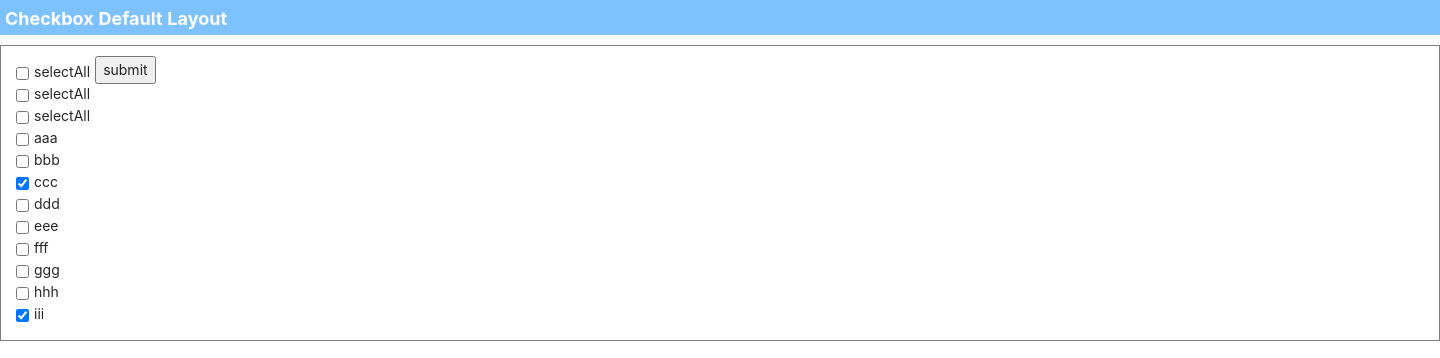
interactive › should be all selected if click selectAll checkbox
Click the 1st text "selectAll". click: x=62, y=72
box: 34,61 -> 90,83
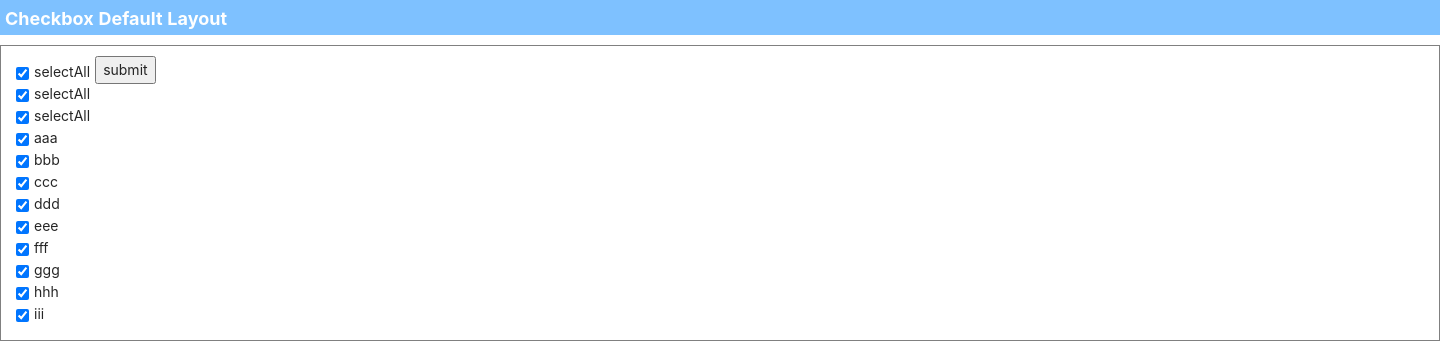
Expected: the checkbox labelled "aaa" is checked, 16,133 -> 29,146
Expected: the checkbox labelled "bbb" is checked, 16,155 -> 29,168
Expected: the checkbox labelled "ddd" is checked, 16,199 -> 29,212
